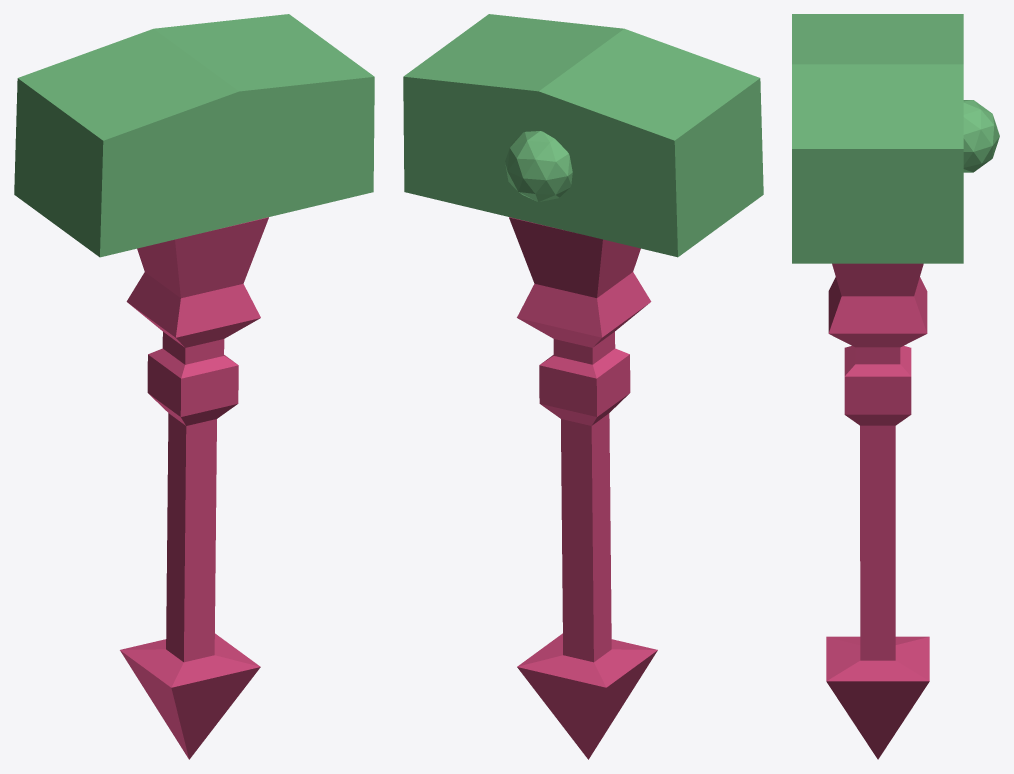
Rendered from full_24_coarse.glb.
The picture shows the model from 3 angles, left to right: view 1: azimuth 30°, elevation 25°; view 2: azimuth 150°, elevation 25°; view 3: azimuth 270°, elevation 25°; orthographic projection.
Parts seen in each view (by area): view 1: world; view 2: world; view 3: world.
Boxes of the visible parts, bbox=[...] form: world: bbox=[14, 14, 374, 759]; world: bbox=[403, 14, 763, 759]; world: bbox=[792, 14, 999, 759].
Bounding box in the file's own units: 0.3696 × 0.8972 × 0.2419.
